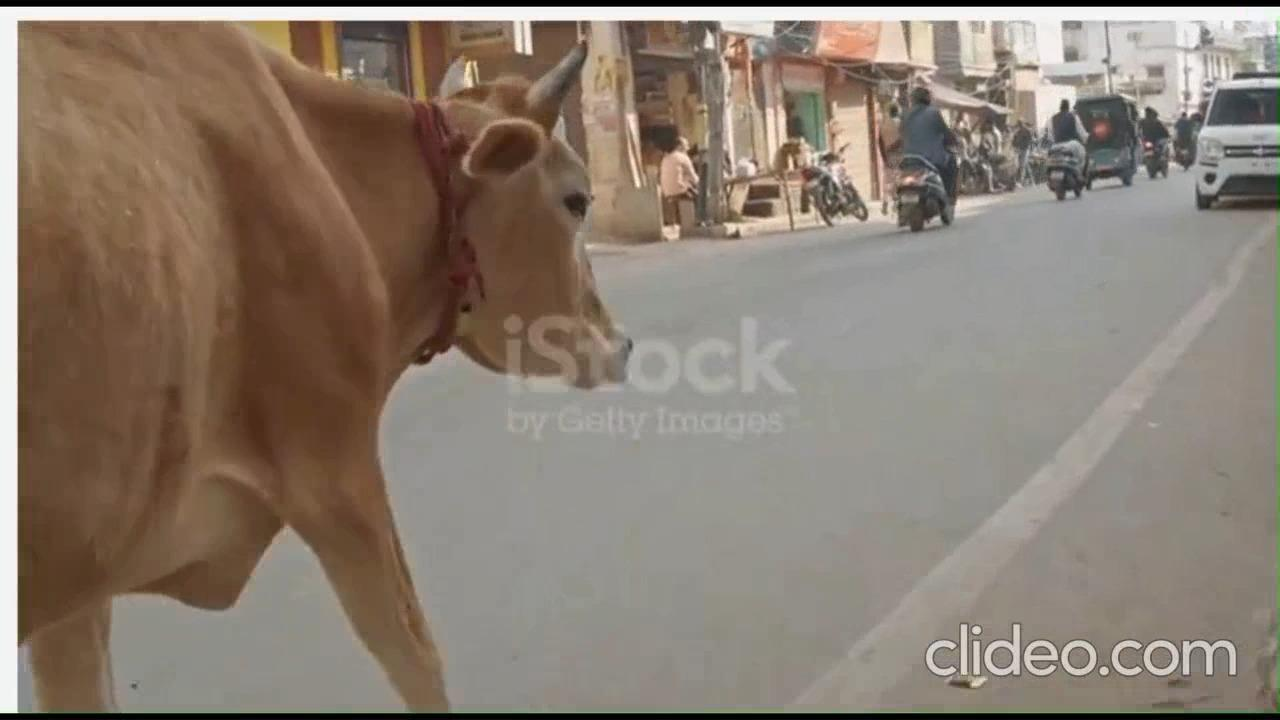Cow: (17, 24, 630, 710)
